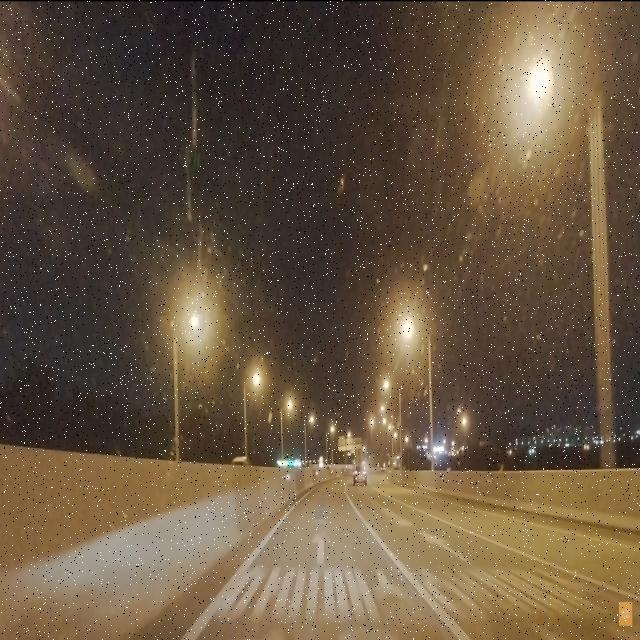forward: (240, 516, 408, 569)
